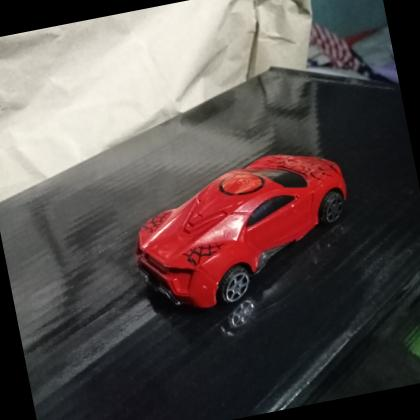Car: (113, 135, 370, 324)
